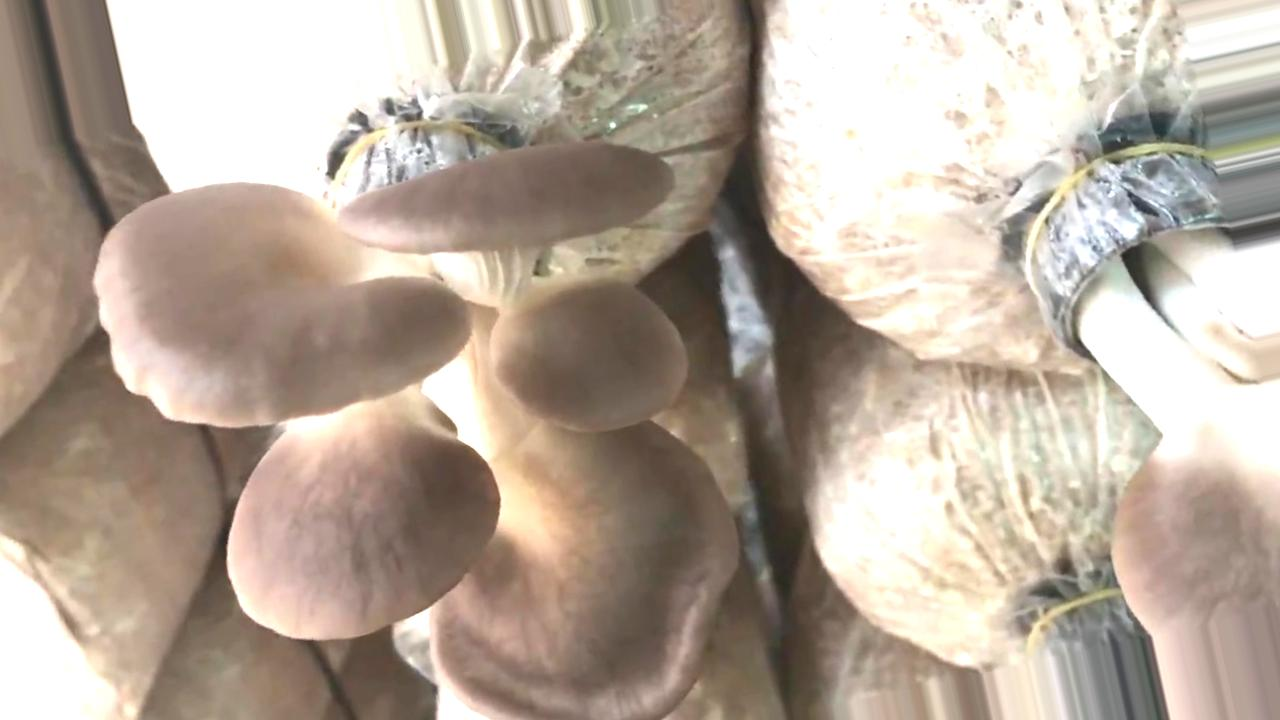nam: (96, 123, 739, 720), (1020, 141, 1280, 720)
